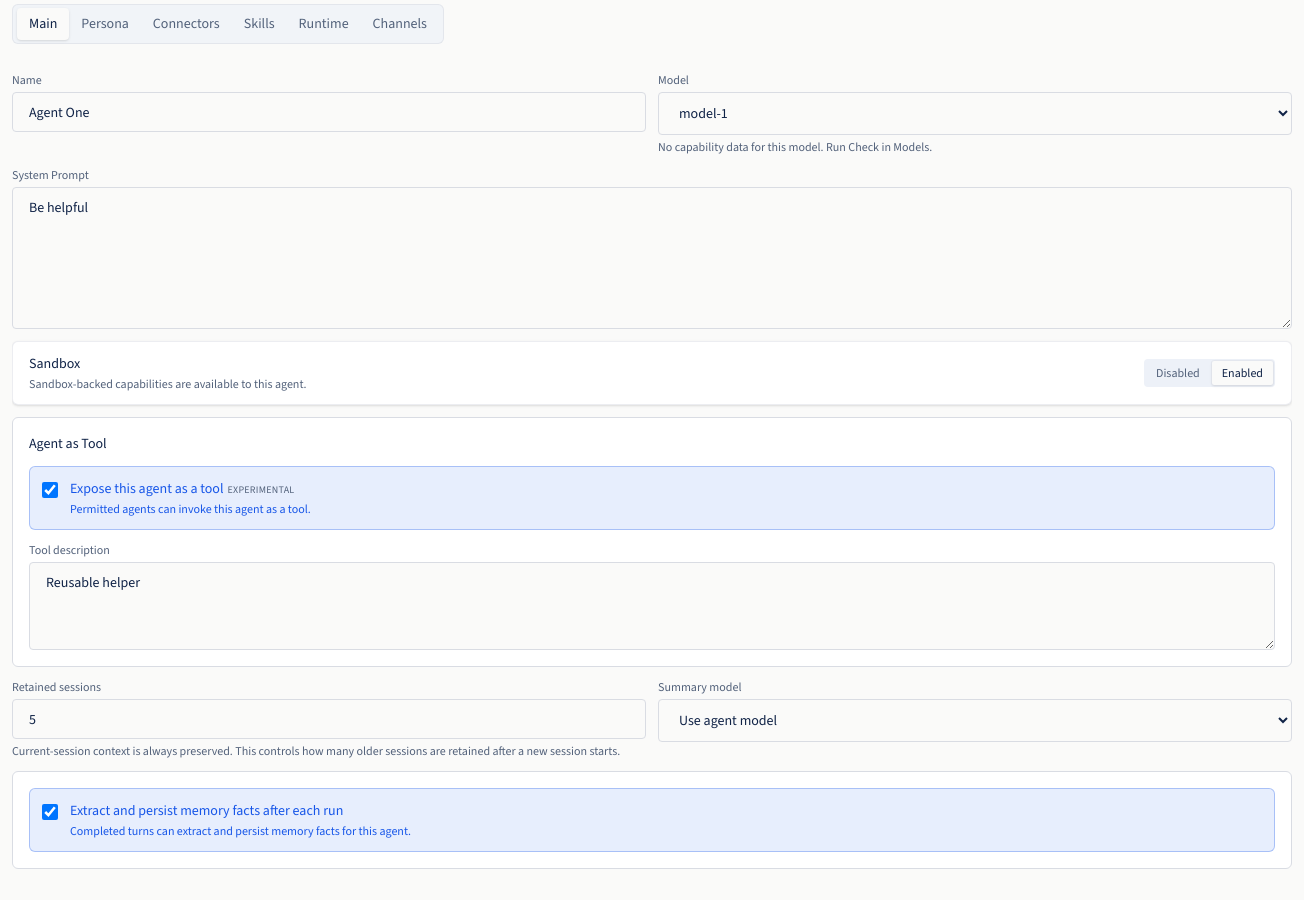
Test: AgentForm persona controls › explains and disables nested agent-tool selection when the agent is exposed as a tool
Expected: the text "Expose this agent as a tool" is shown, [70, 479, 224, 498]
Expected: the text "Experimental" is shown, [228, 483, 294, 496]
Click the tab "Connectors": (186, 24) [141, 8, 232, 40]
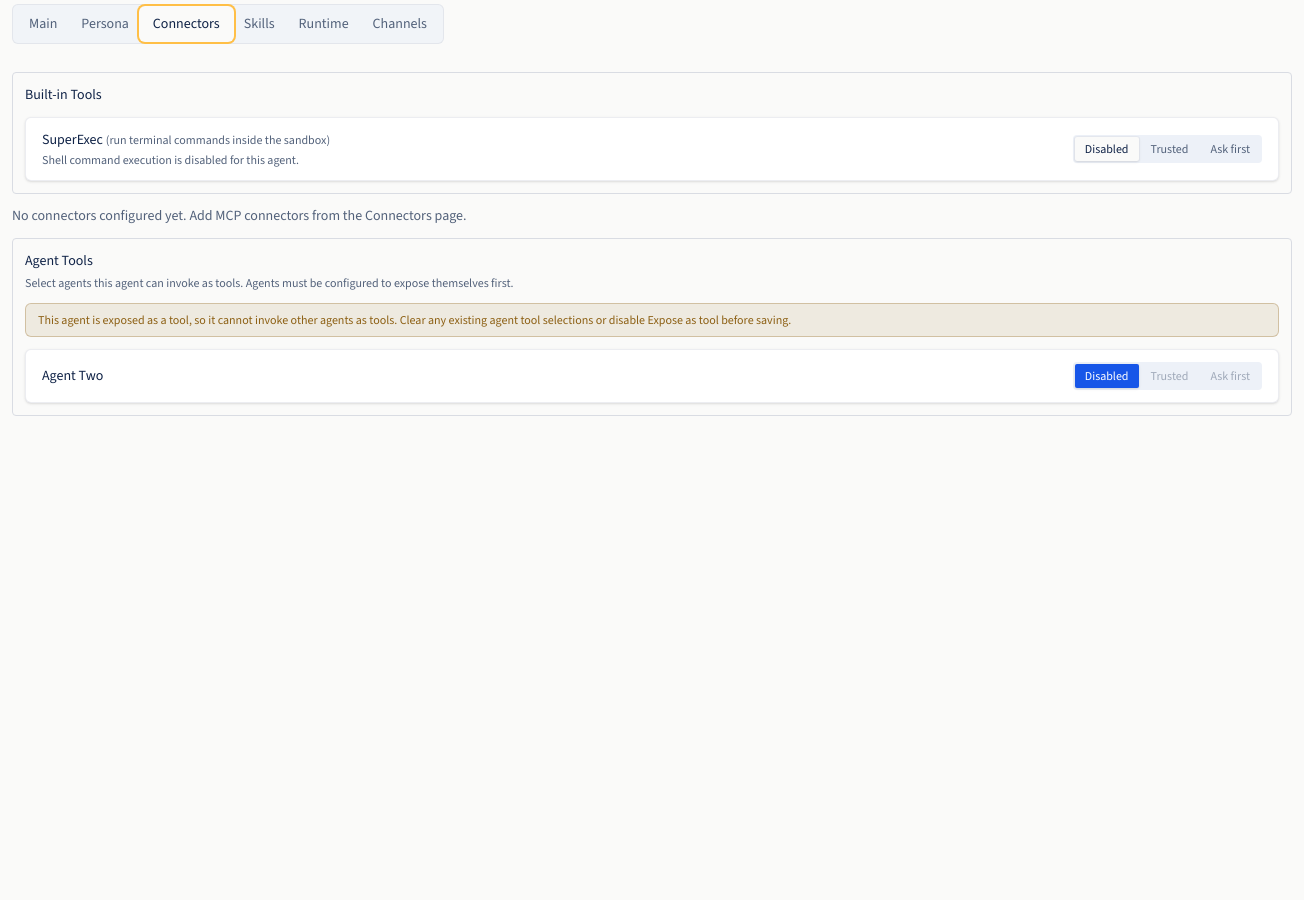
Now the text "This agent is exposed as a tool, so it cannot invoke other agents as tools. Clear any existing agent tool selections or " is shown, box [38, 312, 791, 328]
Now the text "Agent Two" is shown, box [42, 366, 103, 385]
Now the button "Trusted" in the row of "Agent Two" is disabled, box [1140, 364, 1198, 388]
